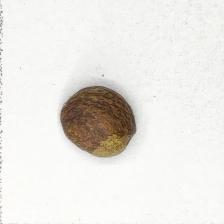NG: (90, 125, 133, 157)
